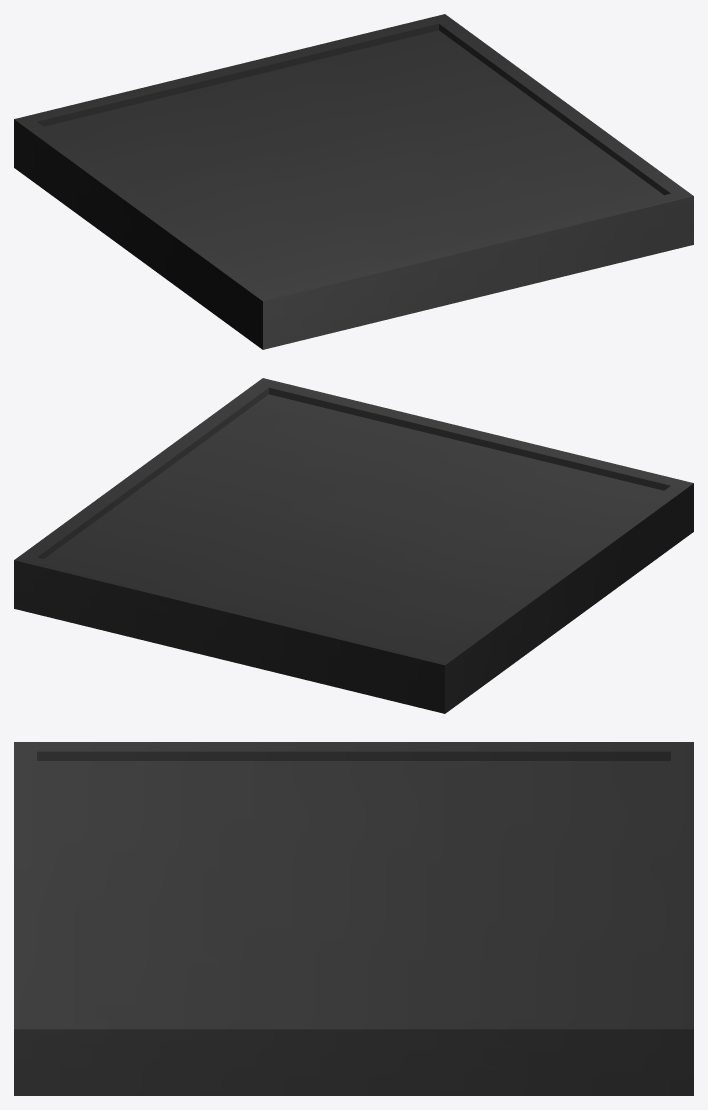
File: CeilingLampSquare.fbx
3 views of the same model, one above another, from view 1: azimuth 30°, elevation 25°; view 2: azimuth 150°, elevation 25°; view 3: azimuth 270°, elevation 25° (orthographic). The views are drawn at different scales.
Parts seen in each view (by area): view 1: CeilingLightSquare.001, CeilingLightSquare; view 2: CeilingLightSquare.001, CeilingLightSquare; view 3: CeilingLightSquare.001, CeilingLightSquare.
Part boxes in pixels (<box>): CeilingLightSquare.001: <box>44,30,663,291</box>; CeilingLightSquare: <box>14,14,693,349</box>; CeilingLightSquare.001: <box>44,394,663,655</box>; CeilingLightSquare: <box>14,378,693,713</box>; CeilingLightSquare.001: <box>37,761,670,1019</box>; CeilingLightSquare: <box>14,742,693,1095</box>.
Size of the model in its own units: 116 by 12.5 by 116.
